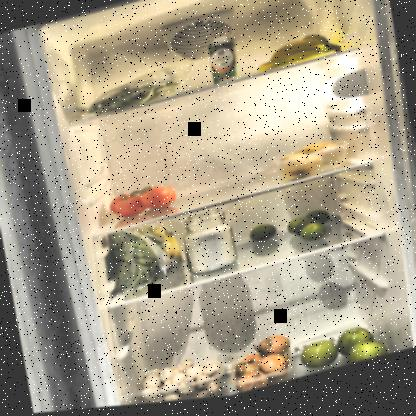apple: (297, 320, 394, 381)
banana: (252, 33, 342, 78)
green_beans: (82, 74, 186, 121)
heavy_cream: (205, 36, 241, 89)
lime: (248, 212, 334, 262)
mushrooms: (134, 352, 230, 406)
onion: (224, 334, 298, 398)
potato: (276, 140, 355, 191)
spinach: (100, 216, 192, 305)
tomato: (102, 178, 182, 224)
